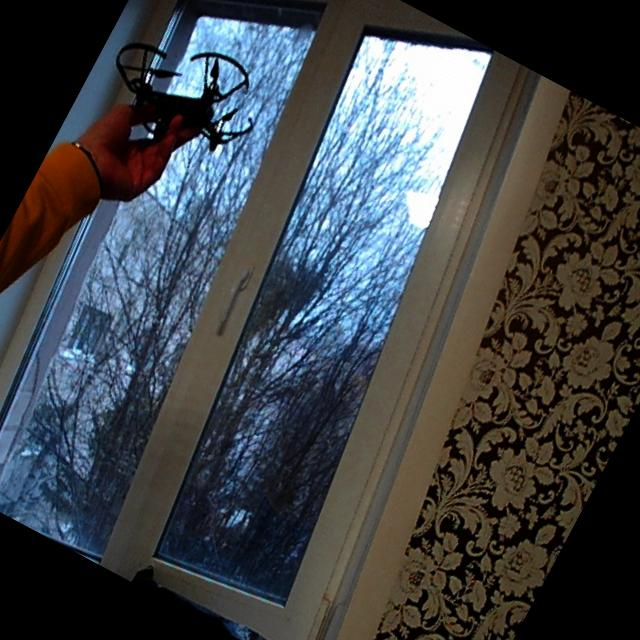drone: (86, 0, 286, 183)
